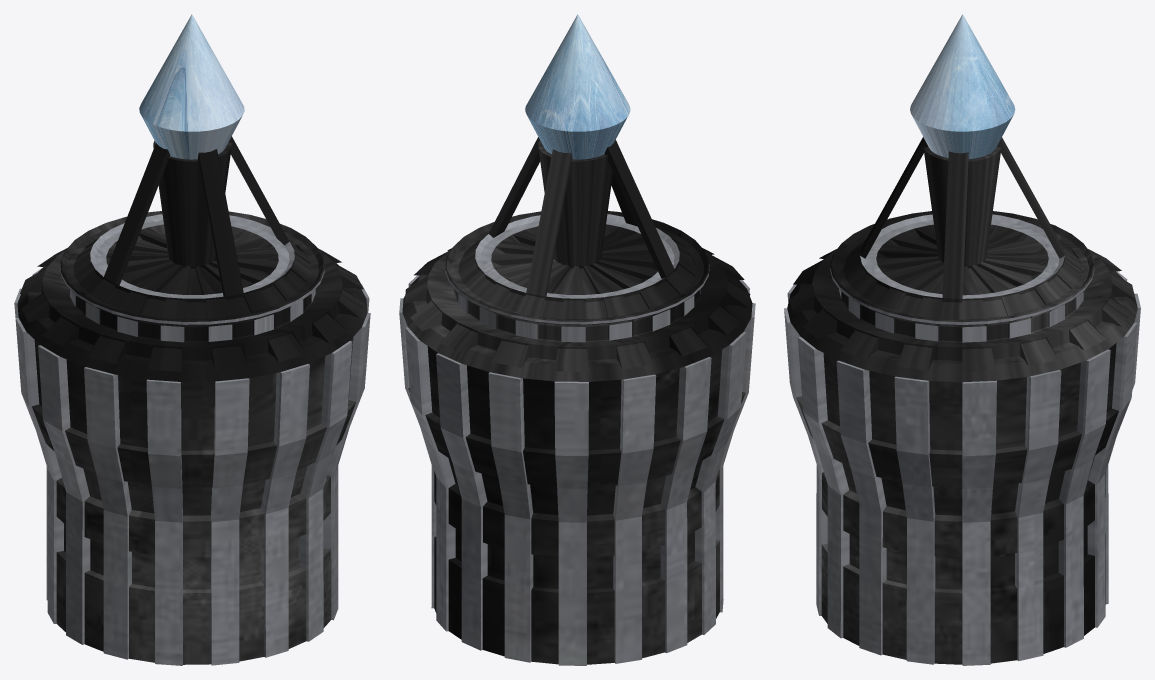
Rendered from Tower.fbx_Collection_3.fbx.
The picture shows the model from 3 angles, left to right: view 1: azimuth 30°, elevation 25°; view 2: azimuth 150°, elevation 25°; view 3: azimuth 270°, elevation 25°; orthographic projection.
Visible parts, largest first — view 1: Cylinder.001, Cone.003; view 2: Cylinder.001, Cone.003; view 3: Cylinder.001, Cone.003.
Boxes of the visible parts, left/top/right/bottom form: Cylinder.001: left=14, top=136, right=370, bottom=665; Cone.003: left=139, top=14, right=244, bottom=159; Cylinder.001: left=399, top=137, right=755, bottom=665; Cone.003: left=525, top=14, right=630, bottom=159; Cylinder.001: left=784, top=137, right=1140, bottom=665; Cone.003: left=910, top=14, right=1015, bottom=159.
Bounding box in the file's own units: 557 × 1015 × 557.
